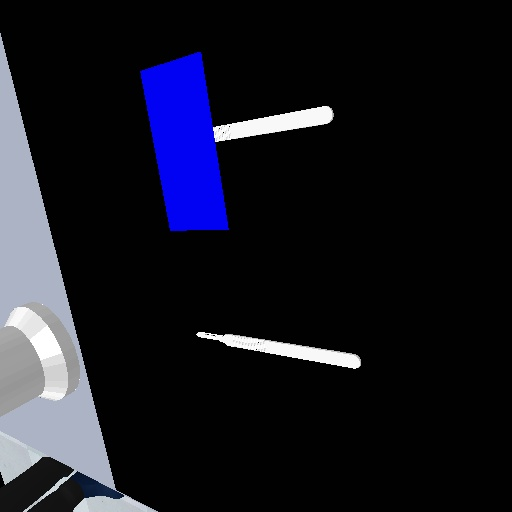bisturi: (190, 326, 364, 372), (211, 103, 338, 145)
